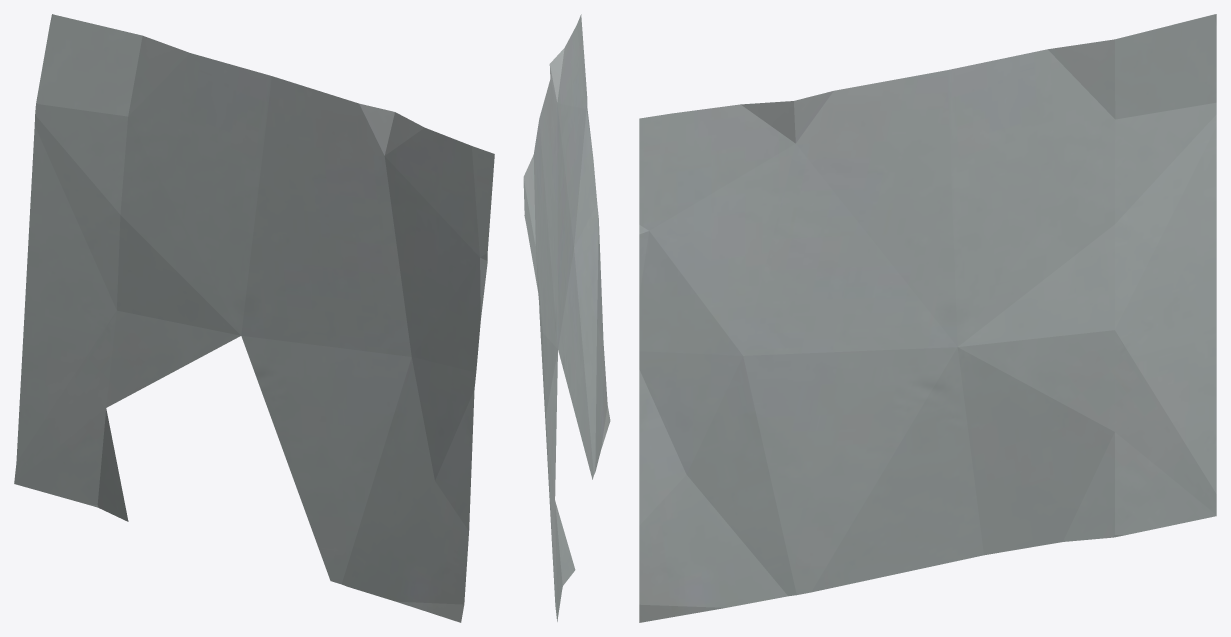
3 views of the same model, side by side, from view 1: azimuth 30°, elevation 25°; view 2: azimuth 150°, elevation 25°; view 3: azimuth 270°, elevation 25° (orthographic). The views are drawn at different scales.
Bounding box in the file's own units: 0.4308 × 0.8374 × 0.8374.
Materials: 3 (3 with a texture image).
